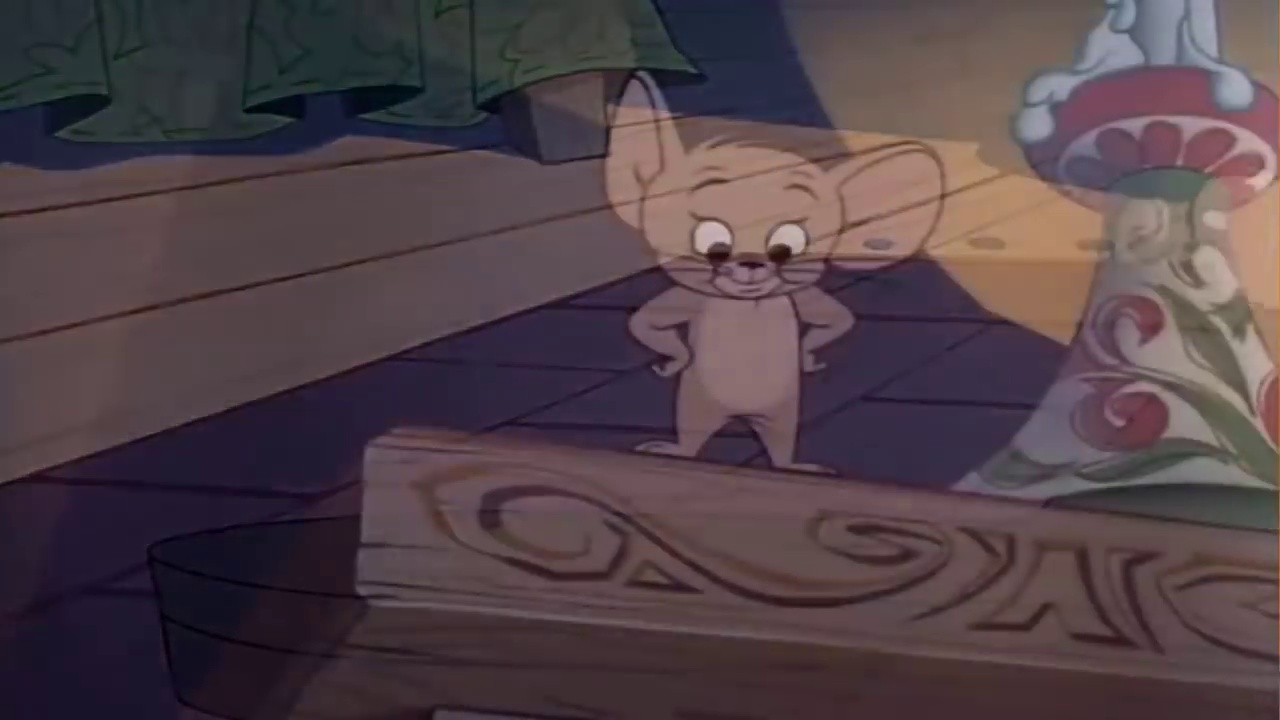face: (679, 149, 820, 300)
